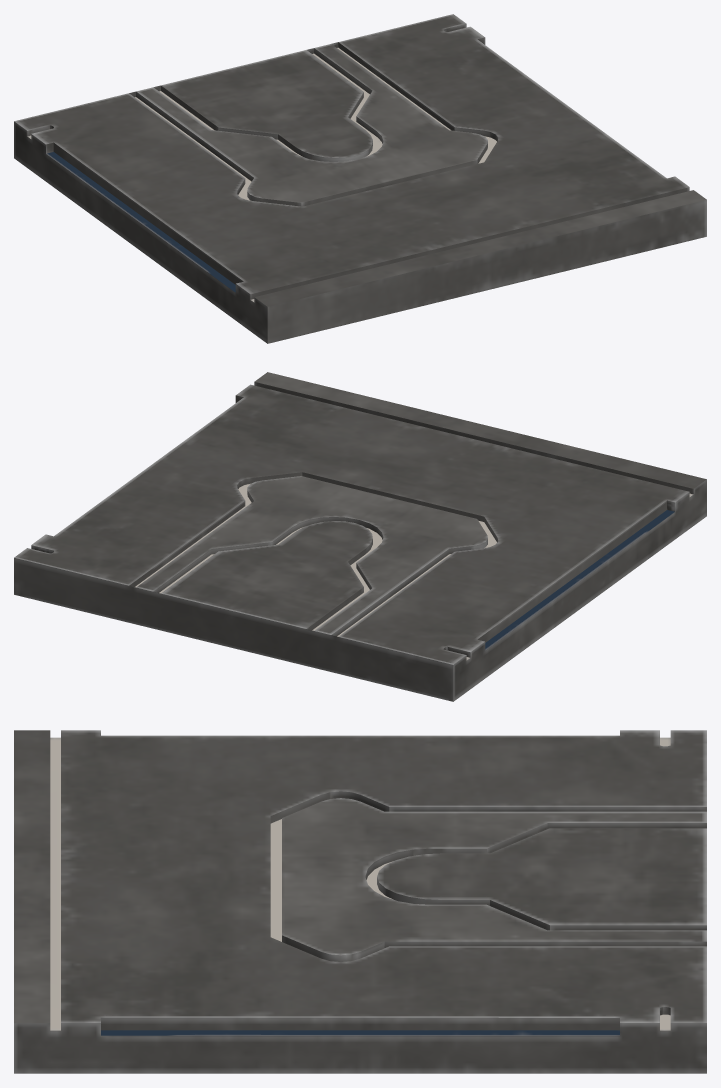
File: FUT0510031.fbx
3 renders of one model, top to bottom at view 1: azimuth 30°, elevation 25°; view 2: azimuth 150°, elevation 25°; view 3: azimuth 270°, elevation 25°, orthographic. The views are drawn at different scales.
Visible parts, largest first — view 1: smFUT0510031; view 2: smFUT0510031; view 3: smFUT0510031.
Boxes of the visible parts, box(x1,y1,x2,y2) form: smFUT0510031: box(14, 14, 706, 343); smFUT0510031: box(14, 372, 706, 701); smFUT0510031: box(14, 730, 706, 1073).
Size of the model in its own units: 168 by 13.53 by 168.
Materials: 1 (1 with a texture image).
